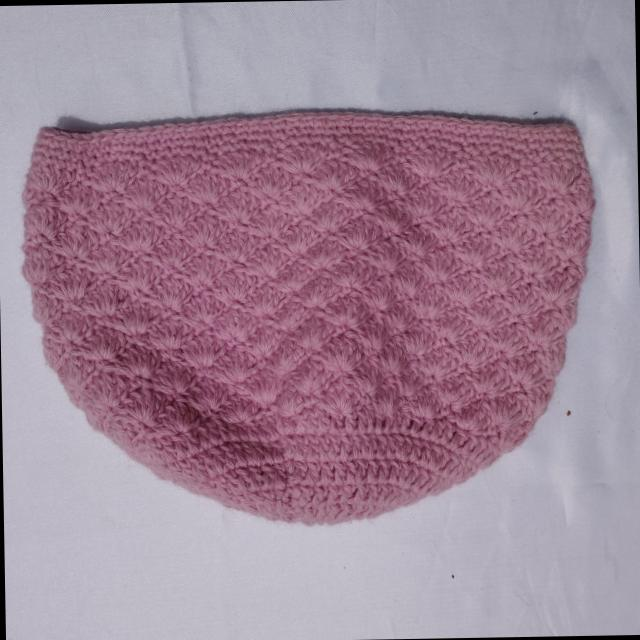Gorro: (18, 105, 601, 532)
